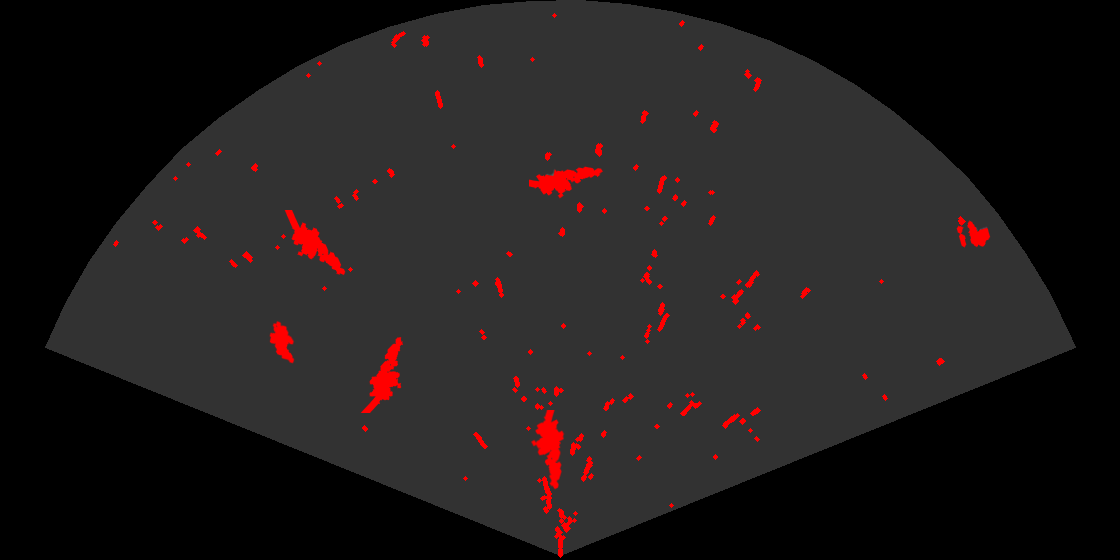AUV: (268, 319, 296, 365)
ball: (955, 219, 992, 249)
frogman: (283, 210, 347, 277), (359, 335, 405, 413), (529, 410, 566, 491), (529, 165, 604, 200)
